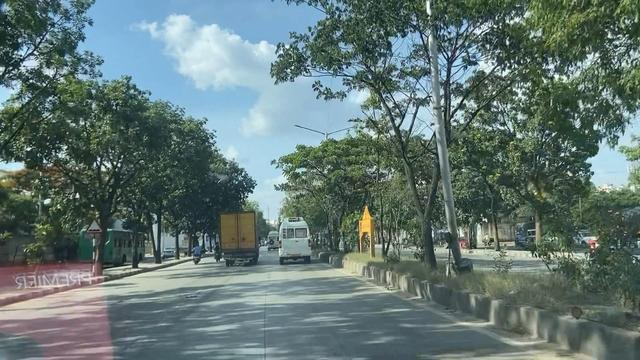HMV: (277, 209, 314, 269), (216, 210, 255, 264)
RoadDamages: (176, 287, 208, 320)
